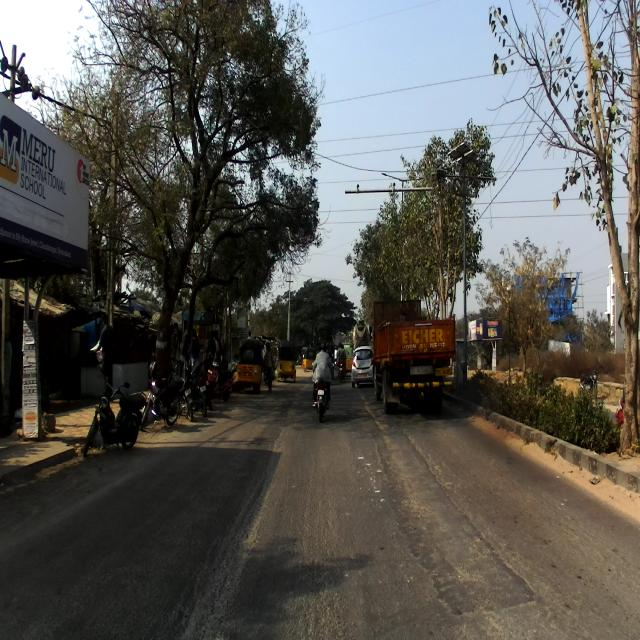motorcycle ahead at: (82, 378, 150, 462)
truck ahead at: (367, 291, 460, 424)
